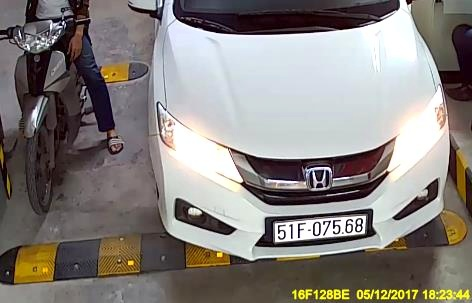plate: (273, 212, 366, 243)
